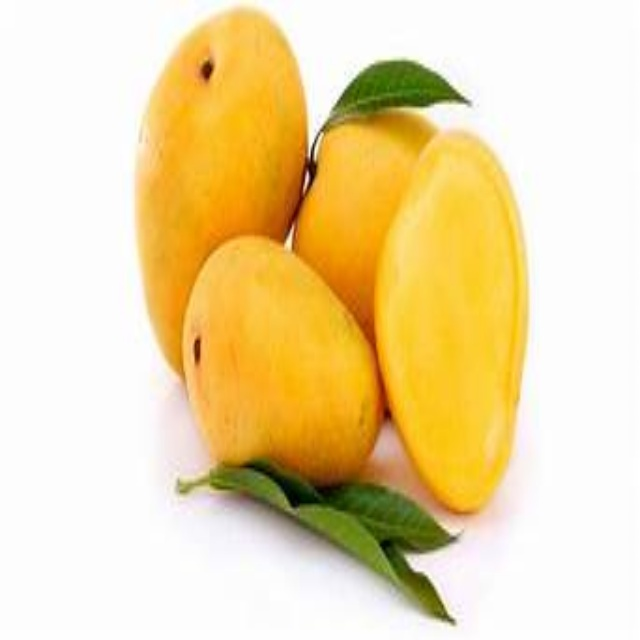mango: (133, 5, 309, 389), (373, 128, 534, 518), (186, 237, 383, 498), (291, 101, 440, 320)
